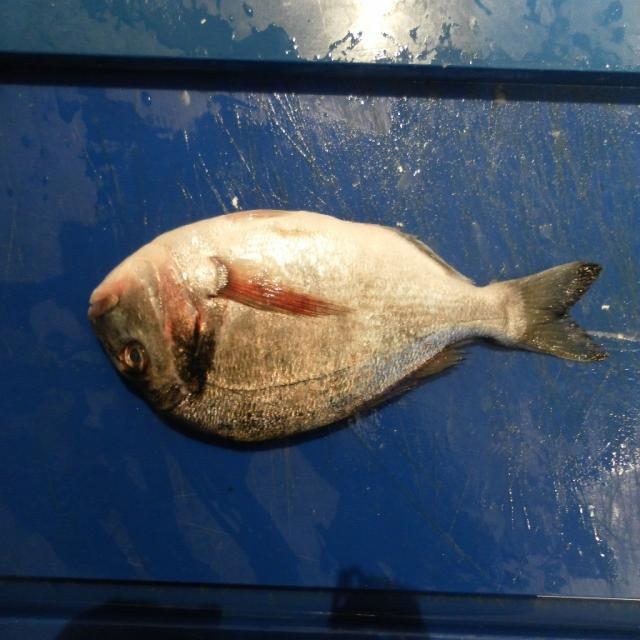Gilt-Head-Bream-c-ipura-: (87, 208, 608, 453)
